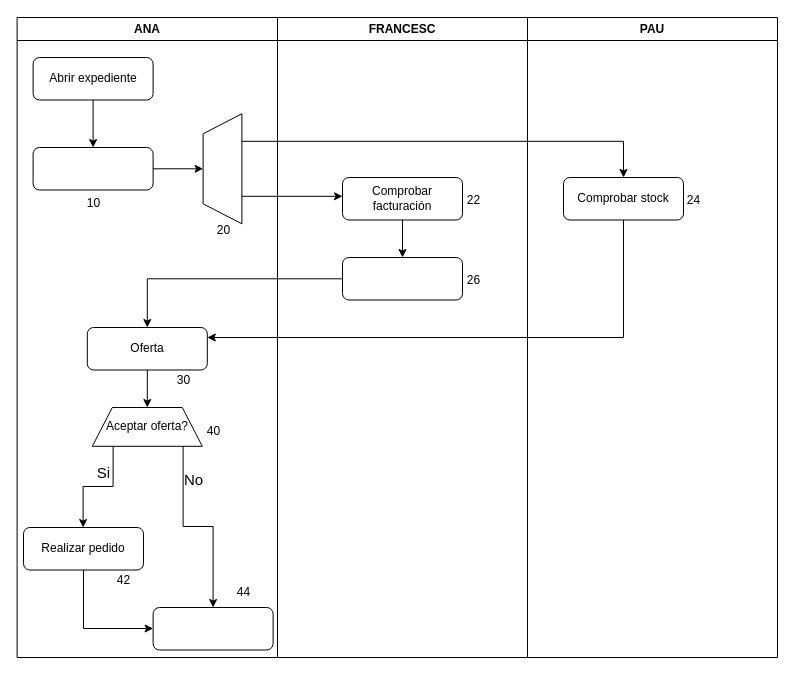
This 796x675 diagram has some shape labels left out. Here are the shapes that lost their labels. From the top down, the box of each, then its label:
(32, 146, 153, 190): Detallar el pedido
(202, 113, 242, 224): Proponer oferta
(342, 256, 462, 300): Dar descuento
(152, 606, 273, 650): Cerrar expediente
